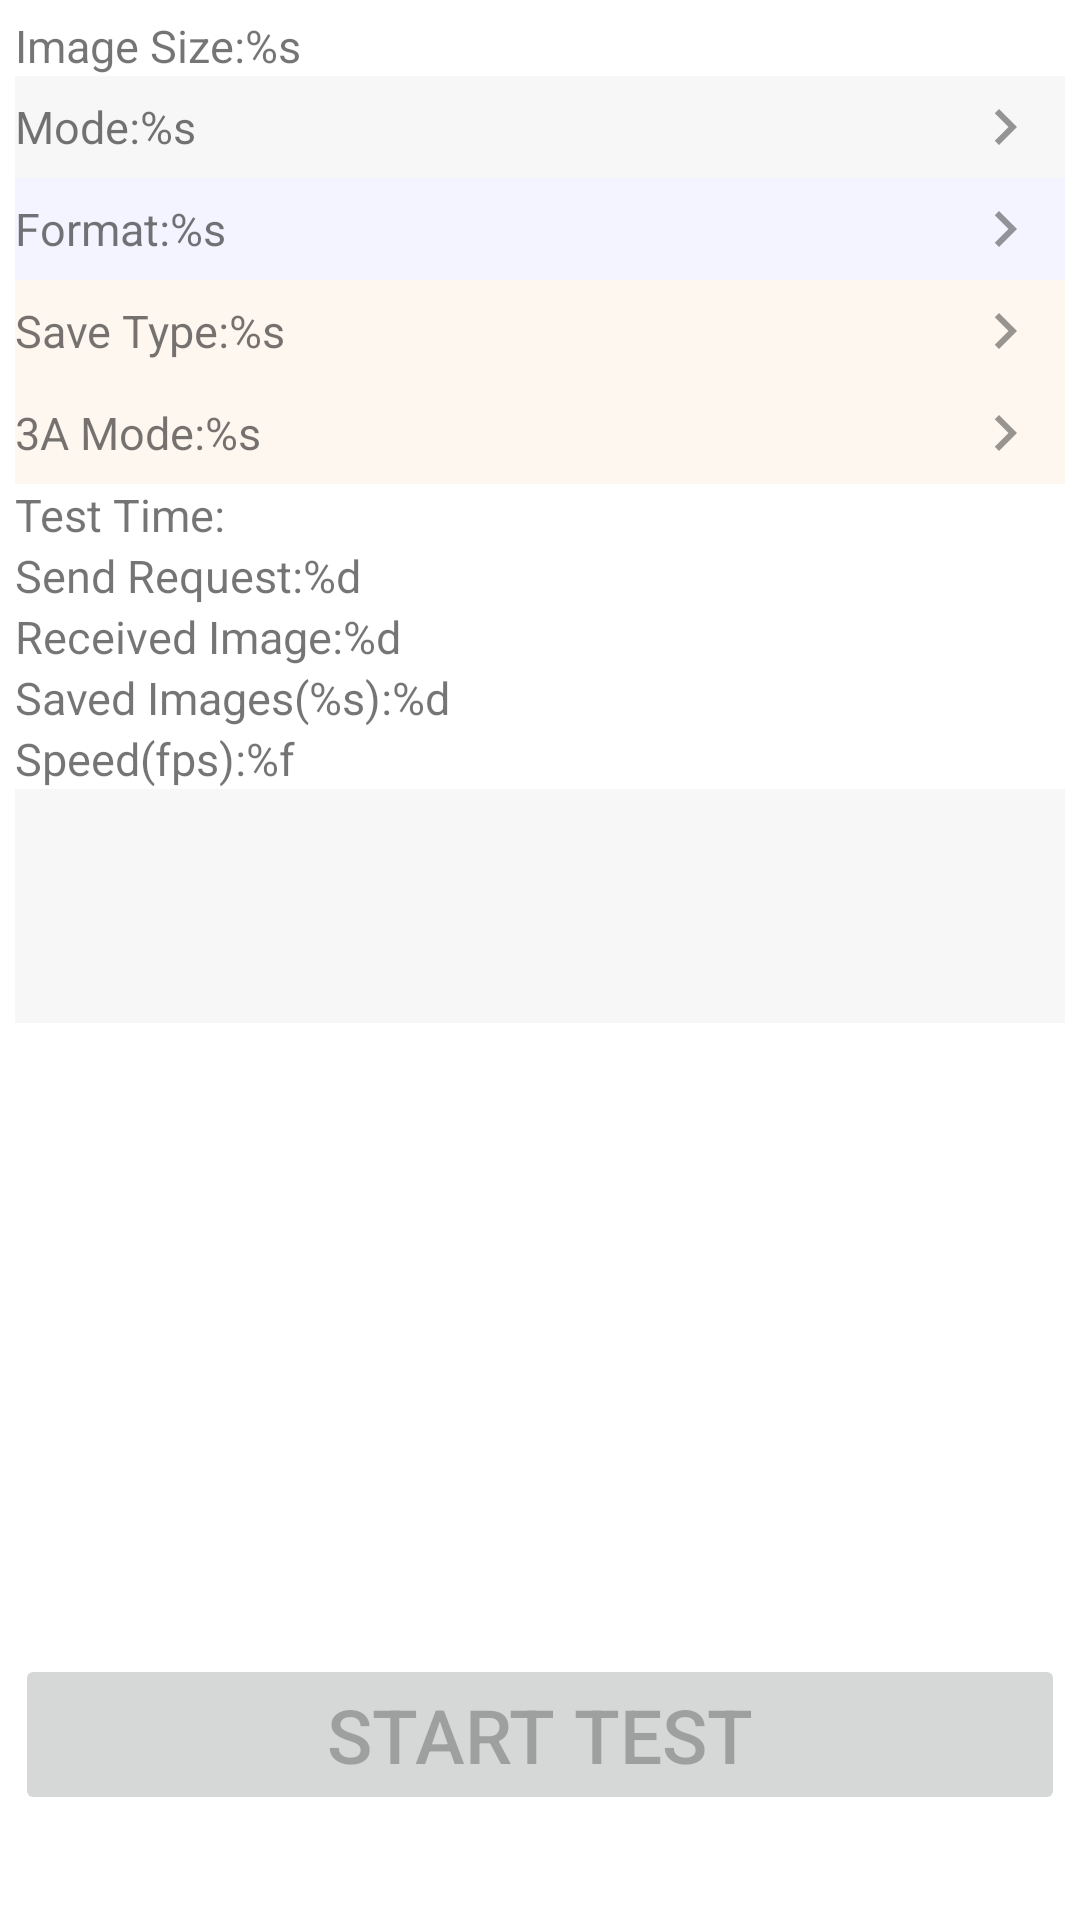

Where to tap for icons on this 1080×1920 app screen, as (x,y):
chevron right: (1006,127), (1006,229), (1006,331), (1006,433)
